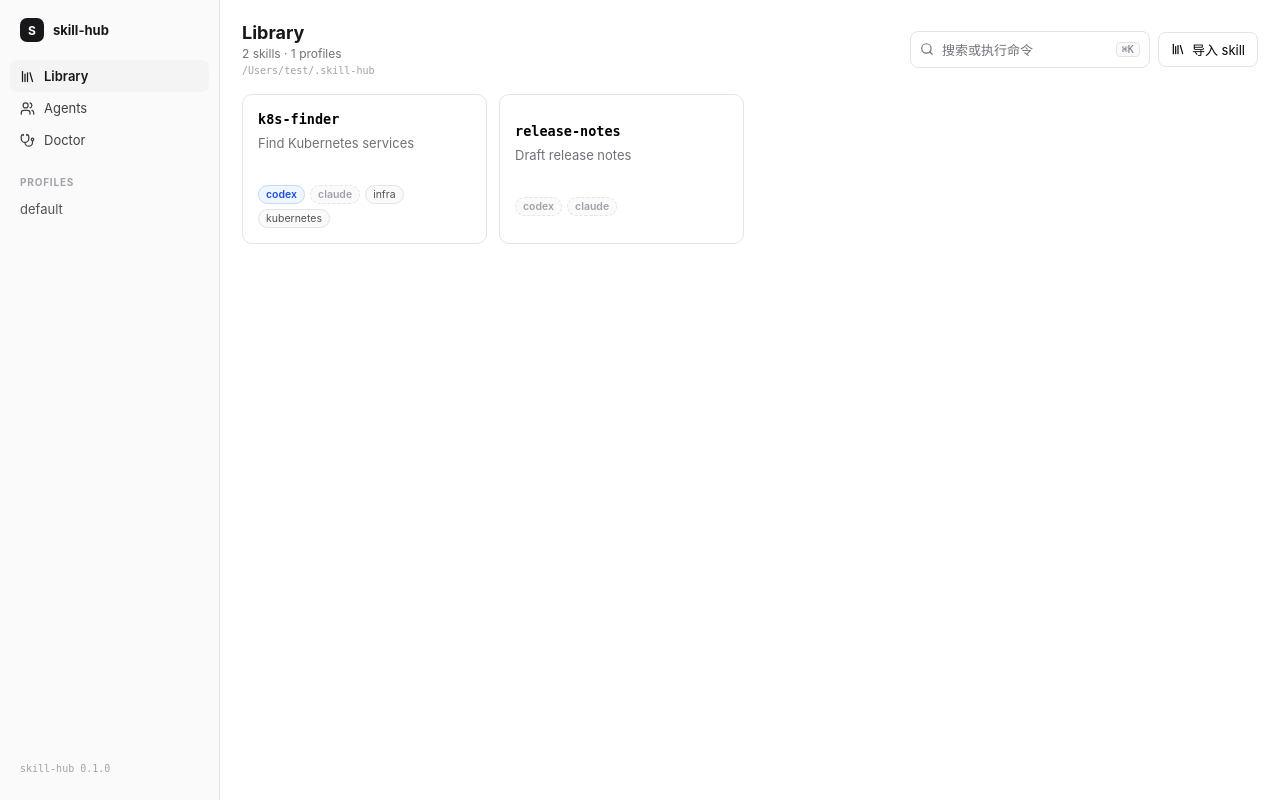
Scenario: Wave 3 desktop shell › opens a skill detail panel and switches between preview, source and profile tabs
Click the button "k8s-finder" at (364, 169), box x1=242 y1=94 x2=487 y2=244
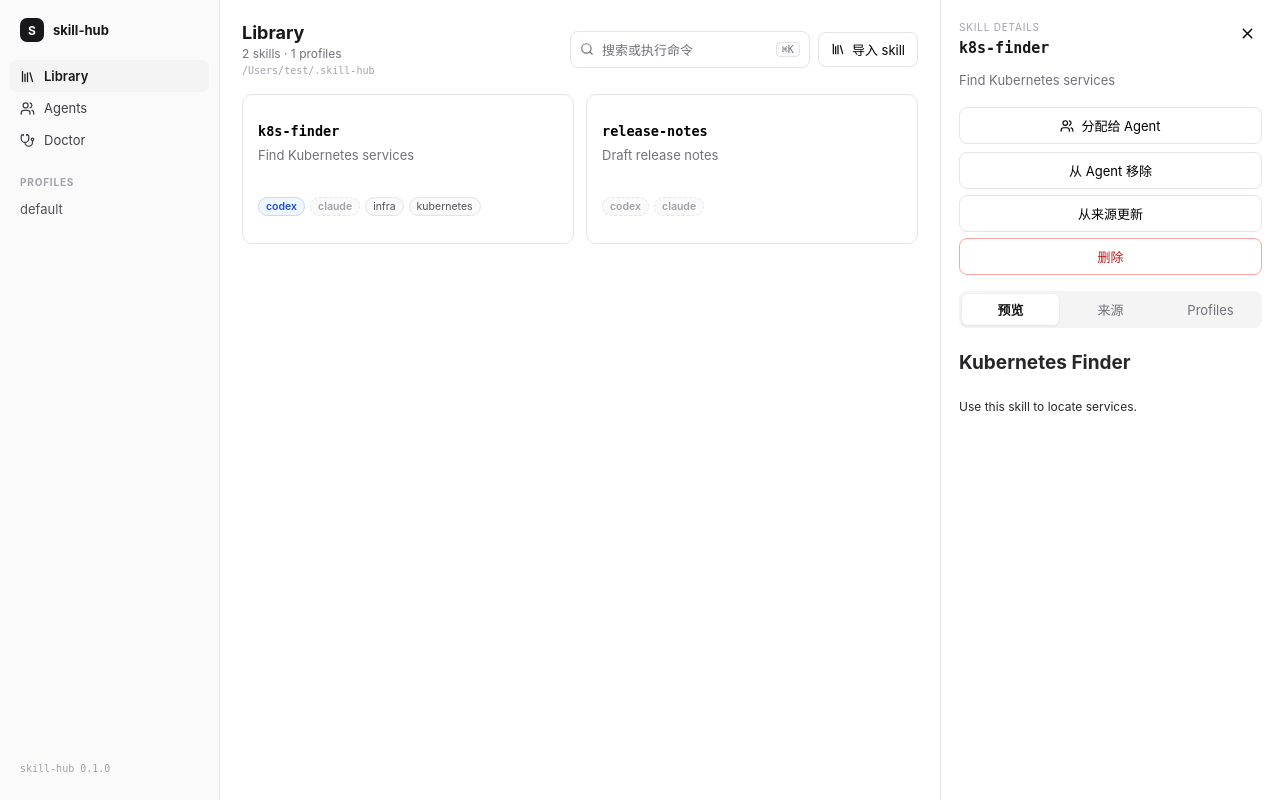
Expected: the element "Skill details" does not show "https://example.test/skills.git", x1=940 y1=0 x2=1279 y2=799
Now the element "Skill details" shows "Kubernetes Finder", box x1=959 y1=351 x2=1131 y2=374
Click the tab "来源" at (1110, 310), box x1=1062 y1=294 x2=1159 y2=325
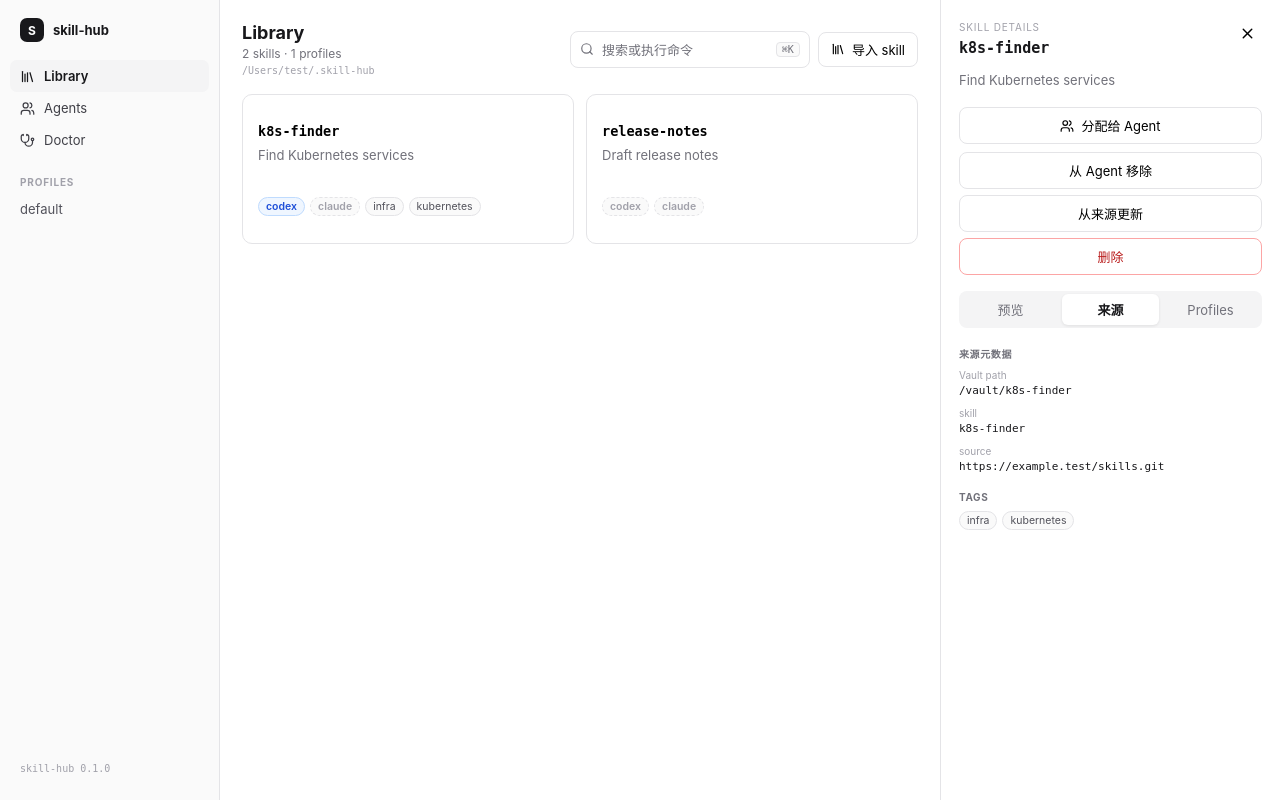
Now the element "Skill details" shows "/vault/k8s-finder", box x1=959 y1=384 x2=1072 y2=397
Now the element "Skill details" shows "https://example.test/skills.git", box x1=959 y1=460 x2=1164 y2=473
Click the tab "Profiles" at (1210, 310), box x1=1162 y1=294 x2=1259 y2=325
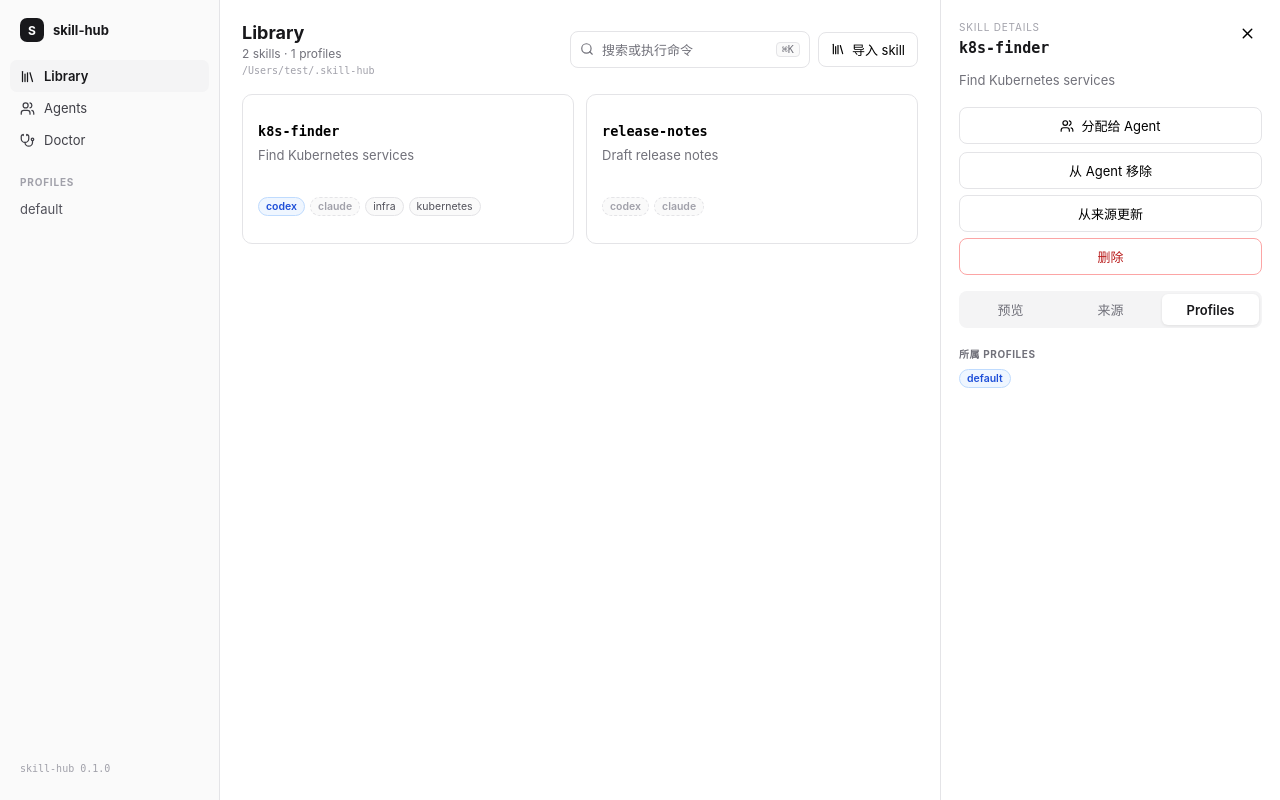
Now the element "Skill details" shows "default", box x1=967 y1=372 x2=1003 y2=385
